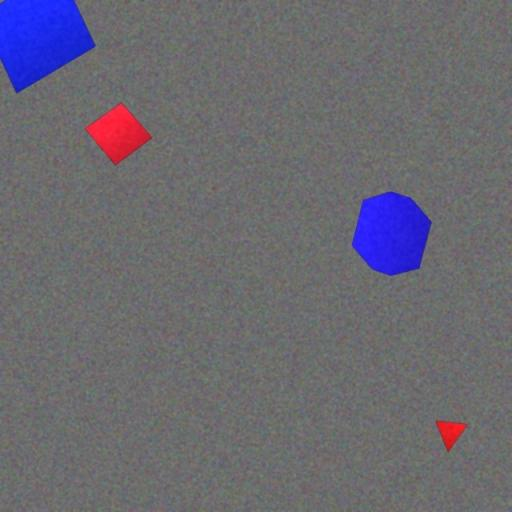BLUE_SQUARE: (0, 0, 97, 94)
RED_SQUARE: (85, 102, 153, 166)
